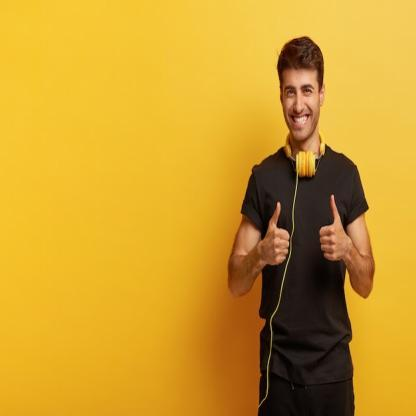thumb_up: (316, 192, 350, 266), (259, 198, 292, 270)
